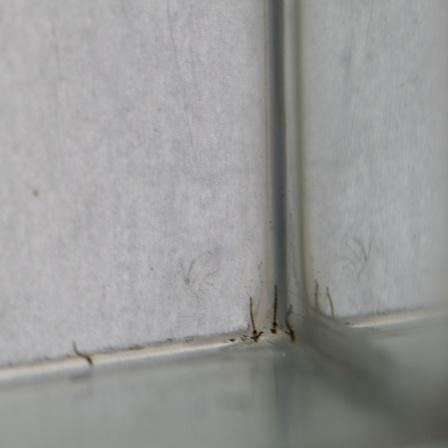Jentik-Nyamuk: (244, 295, 262, 341)
